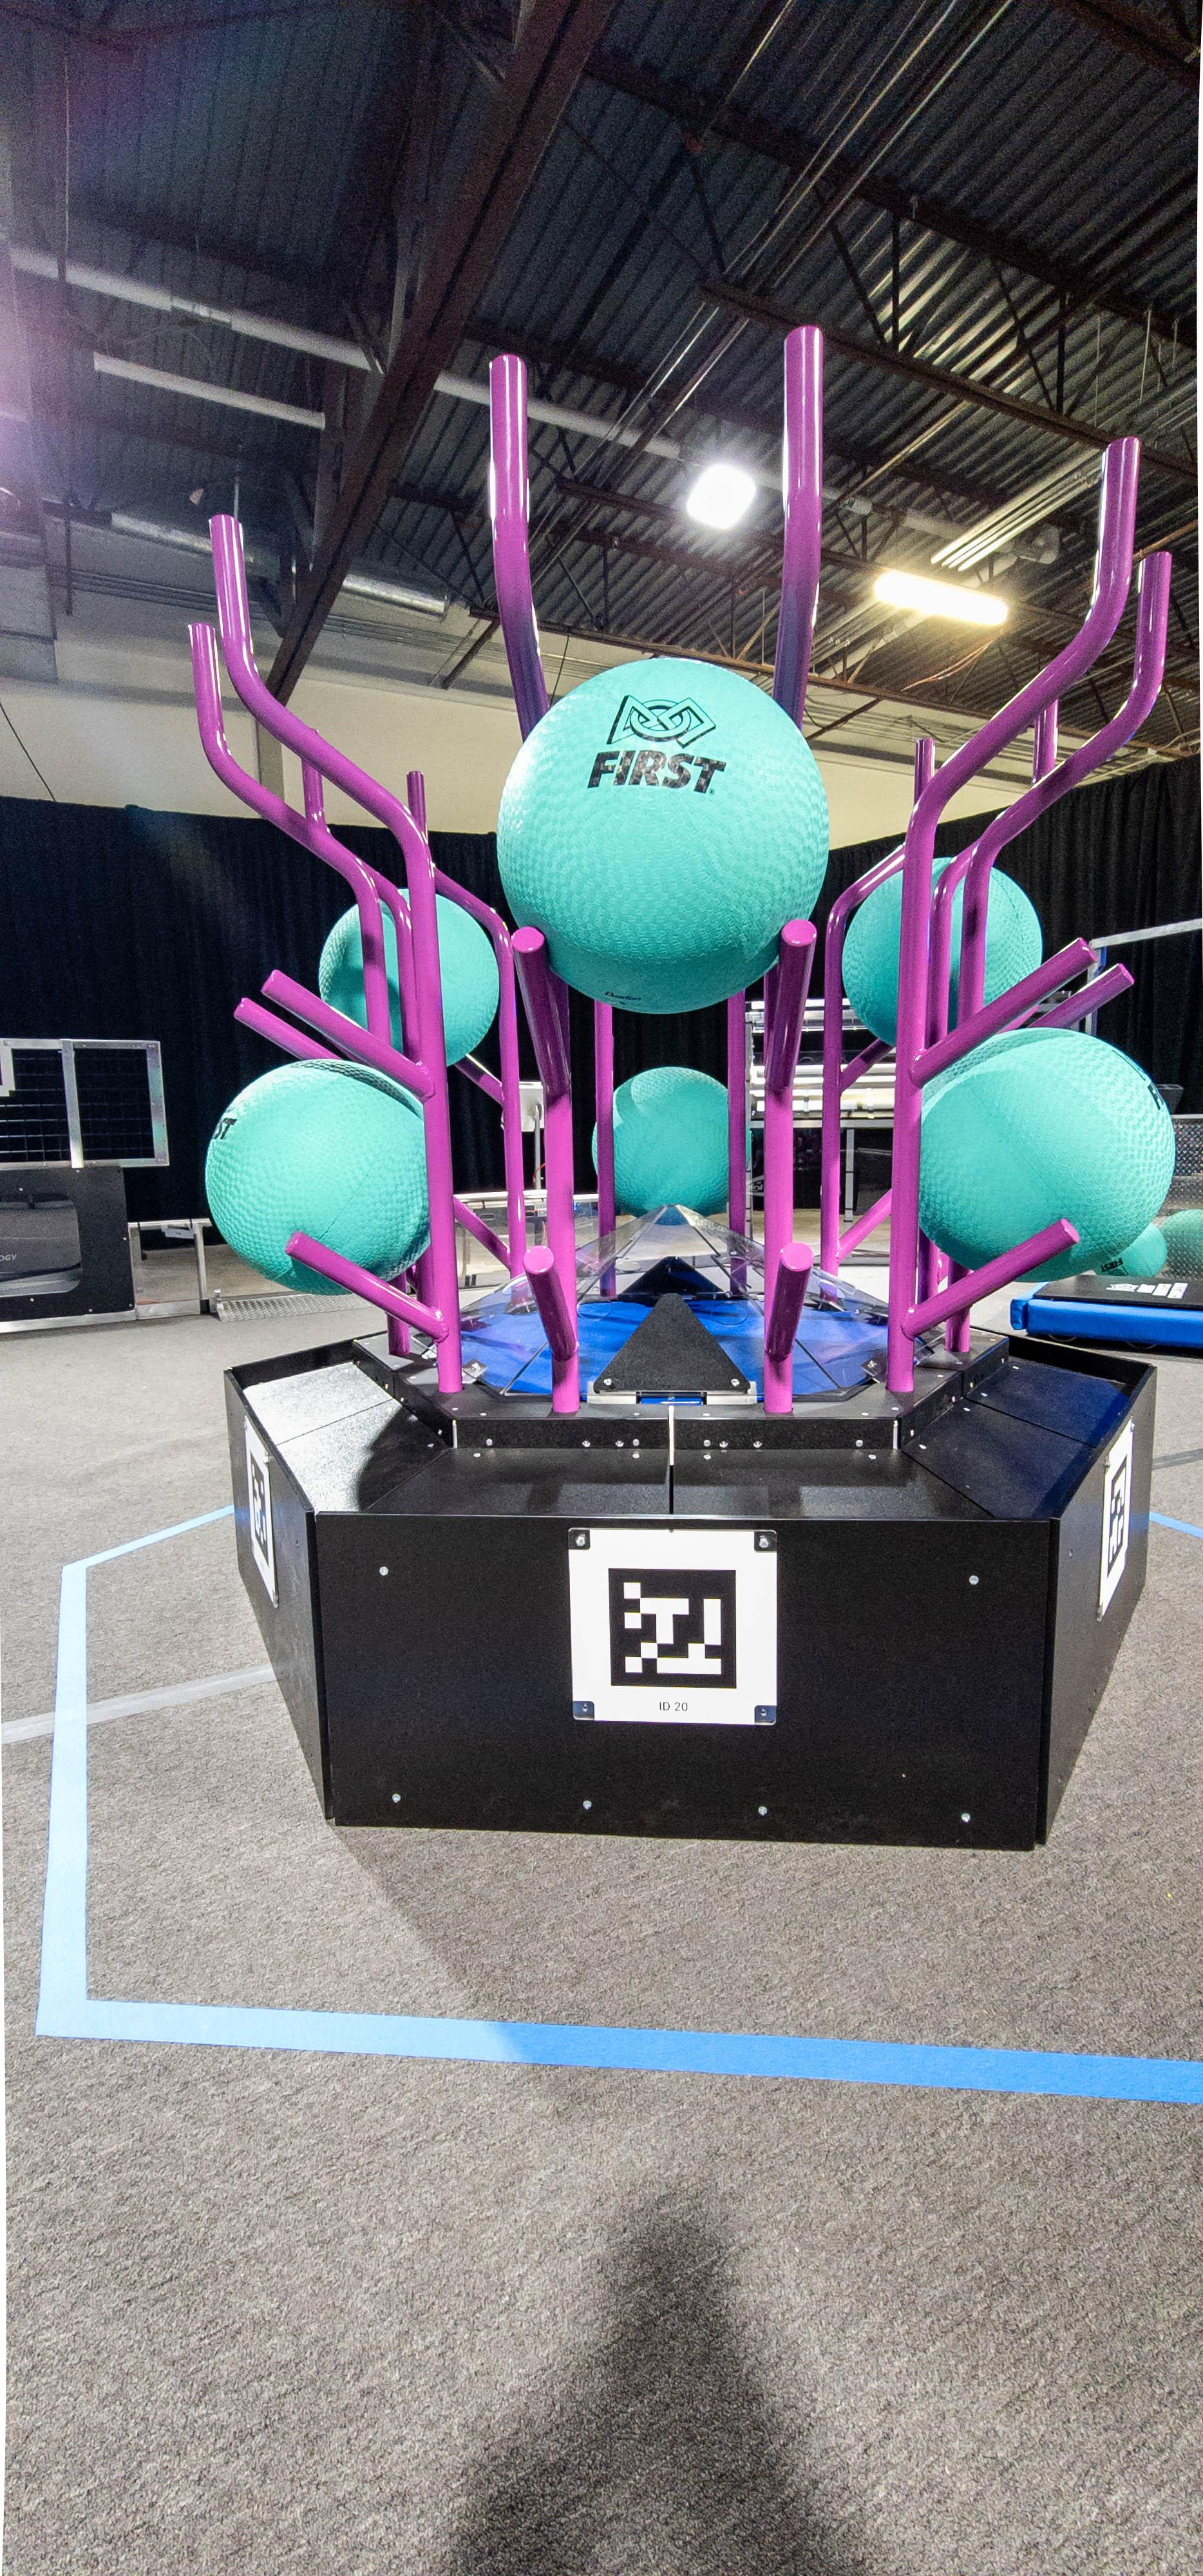ALGAE: (498, 657, 832, 1010), (920, 1028, 1177, 1283), (205, 1060, 429, 1296), (843, 858, 1042, 1051), (319, 887, 498, 1063), (593, 1065, 754, 1226)
